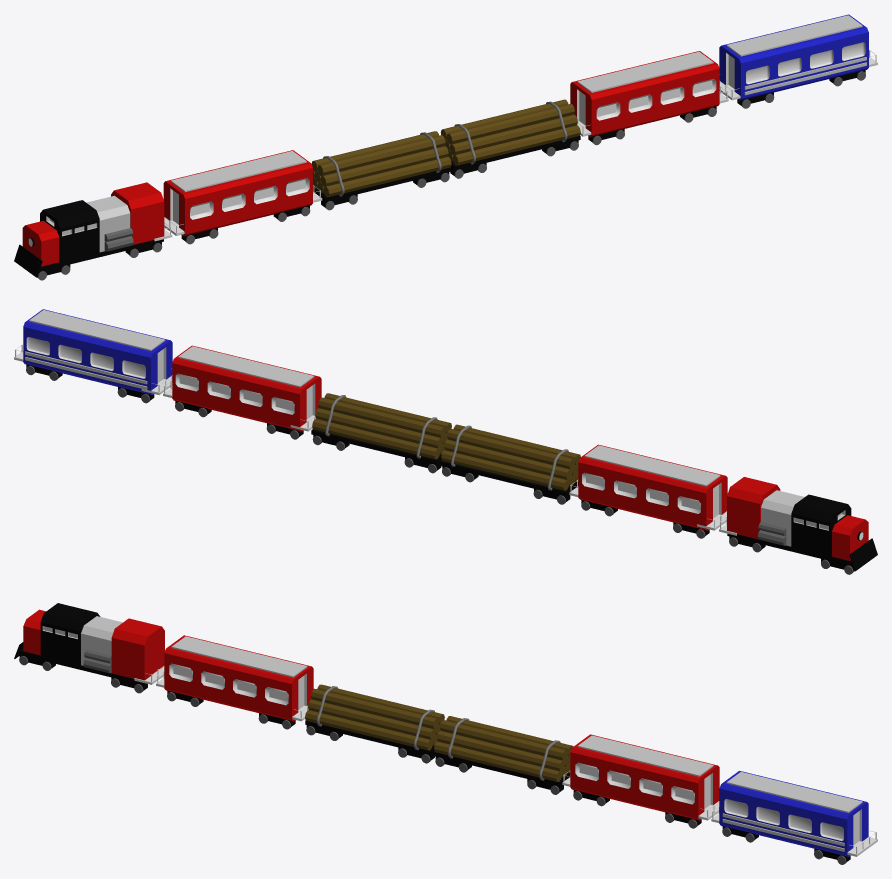
The model's file is POEZD.fbx.
3 renders of one model, top to bottom at view 1: azimuth 30°, elevation 25°; view 2: azimuth 150°, elevation 25°; view 3: azimuth 330°, elevation 25°, orthographic.
Visible parts, largest first — view 1: Выдавливание_3_2, Выдавливание_2_2, Выдавливание_4, Выдавливание_2, Выдавливание, Куб_7, Куб_9, Куб_5, Цилиндр_7_2, Цилиндр_4, Цилиндр_7, Цилиндр_4_3 (+11 smaller); view 2: Выдавливание_2_2, Выдавливание_3_2, Выдавливание_4, Выдавливание_2, Выдавливание, Куб_7, Куб_5, Куб_9, Цилиндр_8, Цилиндр_8_2, Цилиндр_6_2, Цилиндр_5_3 (+11 smaller); view 3: Выдавливание_3_2, Выдавливание_2_2, Выдавливание_4, Выдавливание_2, Выдавливание, Куб_5, Куб_7, Куб_9, Цилиндр_7, Цилиндр_4, Цилиндр_7_2, Цилиндр_4_3 (+12 smaller).
Part boxes in pixels (x1,y1,x2,y2): Выдавливание_3_2: (572,51,719,137); Выдавливание_2_2: (165,150,312,236); Выдавливание_4: (721,14,868,100); Выдавливание_2: (43,200,99,262); Выдавливание: (114,182,164,244); Куб_7: (577,51,713,92); Куб_9: (726,15,862,56); Куб_5: (171,151,306,192); Цилиндр_7_2: (317,135,445,175); Цилиндр_4: (449,114,577,154); Цилиндр_7: (446,104,574,144); Цилиндр_4_3: (320,146,448,186); Выдавливание_2_2: (578,444,725,530); Выдавливание_3_2: (172,345,319,431); Выдавливание_4: (23,309,170,394); Выдавливание_2: (791,494,847,556); Выдавливание: (727,477,776,539); Куб_7: (178,346,314,387); Куб_5: (584,445,720,486); Куб_9: (29,310,165,350); Цилиндр_8: (318,397,445,437); Цилиндр_8_2: (447,429,574,469); Цилиндр_6_2: (444,439,572,479); Цилиндр_5_3: (441,450,569,490); Выдавливание_3_2: (570,734,717,820); Выдавливание_2_2: (164,635,311,721); Выдавливание_4: (719,771,866,856); Выдавливание_2: (40,603,96,665); Выдавливание: (111,618,161,680); Куб_5: (171,636,307,677); Куб_7: (577,735,713,776); Куб_9: (726,772,862,812); Цилиндр_7: (440,720,567,760); Цилиндр_4: (437,731,564,771); Цилиндр_7_2: (311,688,438,729); Цилиндр_4_3: (308,699,435,739).
Bounding box in the file's own units: 1335 × 84.52 × 71.69.
